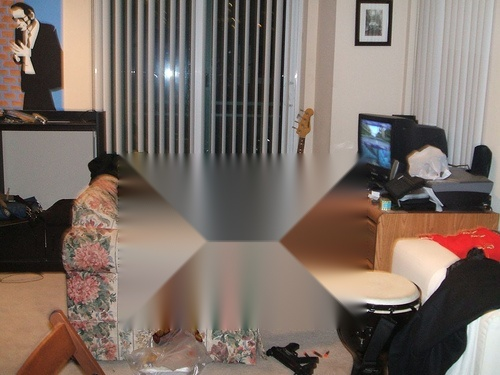tvmonitor: (360, 114, 449, 187)
